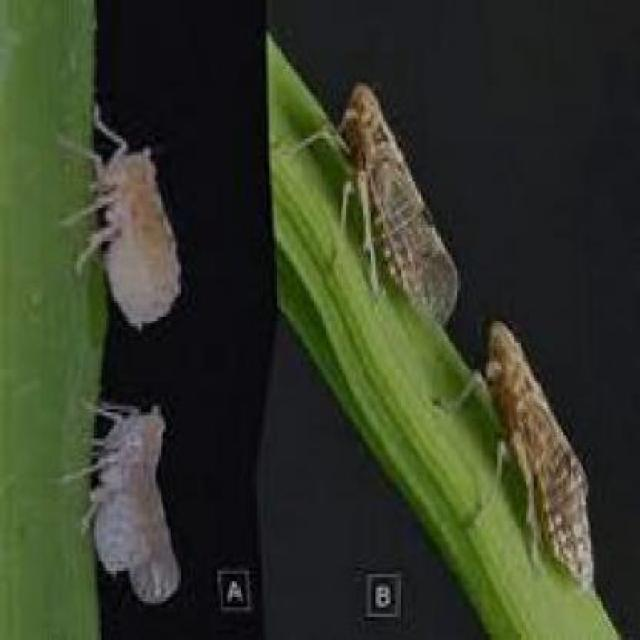brown-planthopper: (322, 83, 453, 317), (472, 321, 590, 579), (82, 394, 178, 609), (90, 139, 181, 327)
